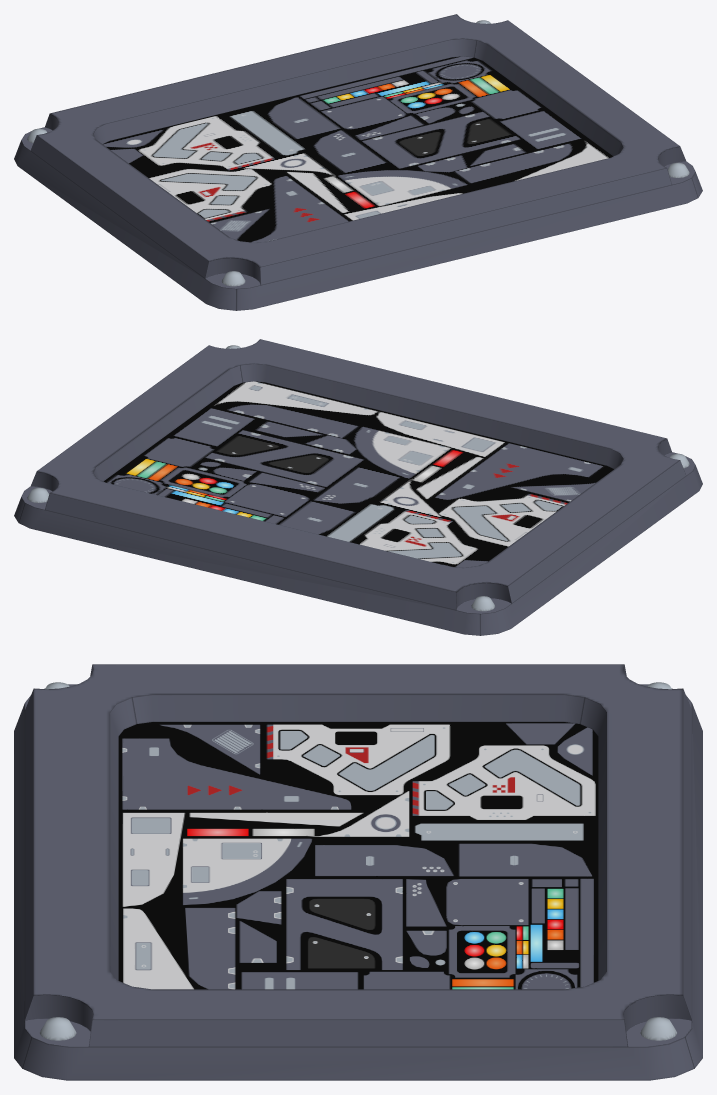
File: Panel_Rectangular_Screen_02.FBX
The picture shows the model from 3 angles, top to bottom: view 1: azimuth 30°, elevation 25°; view 2: azimuth 150°, elevation 25°; view 3: azimuth 270°, elevation 25°; orthographic projection. The views are drawn at different scales.
Visible parts, largest first — view 1: Panel_Rectangular_Screen_02, Screen_A; view 2: Panel_Rectangular_Screen_02, Screen_A; view 3: Panel_Rectangular_Screen_02, Screen_A.
Part boxes in pixels (box(x1,y1,x2,y2)): Panel_Rectangular_Screen_02: box(14, 14, 702, 310); Screen_A: box(103, 56, 612, 242); Panel_Rectangular_Screen_02: box(14, 339, 702, 635); Screen_A: box(104, 381, 613, 567); Panel_Rectangular_Screen_02: box(14, 664, 702, 1080); Screen_A: box(118, 722, 598, 989).
Size of the model in its own units: 1.56 by 0.1029 by 1.22.
1 material, 1 textured.
